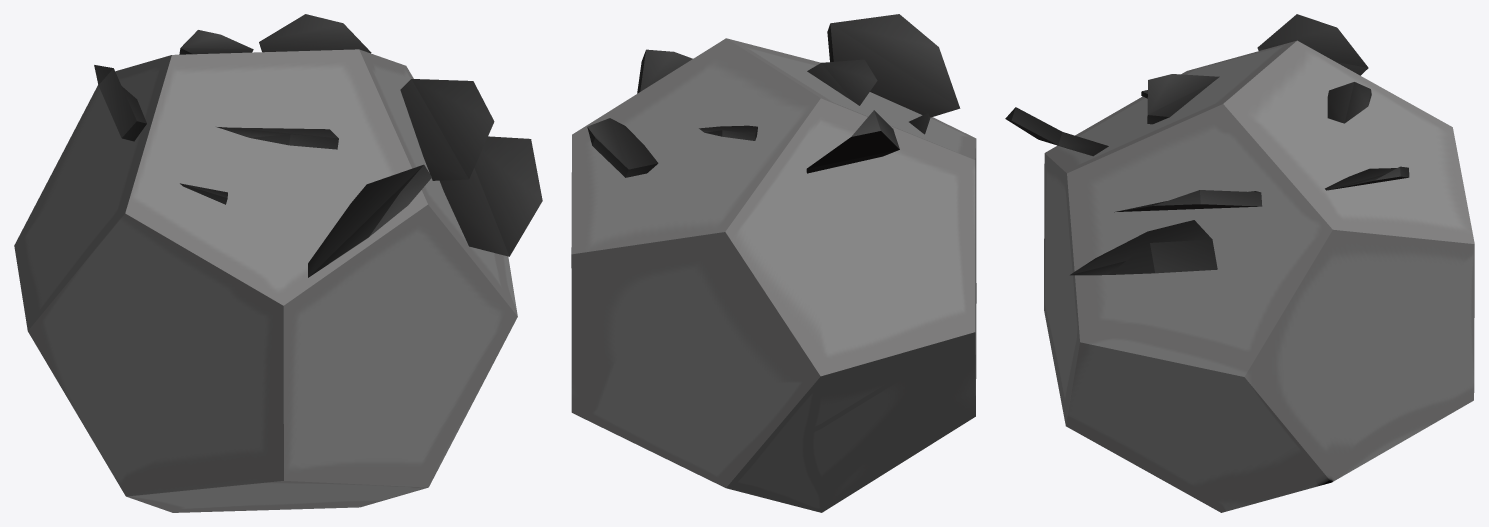
Rendered from Stone03_LP.fbx.
The picture shows the model from 3 angles, left to right: view 1: azimuth 30°, elevation 25°; view 2: azimuth 150°, elevation 25°; view 3: azimuth 270°, elevation 25°; orthographic projection. The views are drawn at different scales.
Parts seen in each view (by area): view 1: pCube9; view 2: pCube9; view 3: pCube9.
Part boxes in pixels (bbox=[...]): pCube9: bbox=[14, 14, 542, 512]; pCube9: bbox=[571, 14, 976, 512]; pCube9: bbox=[1005, 14, 1474, 512].
Bounding box in the file's own units: 3.58 × 3.41 × 3.54.
